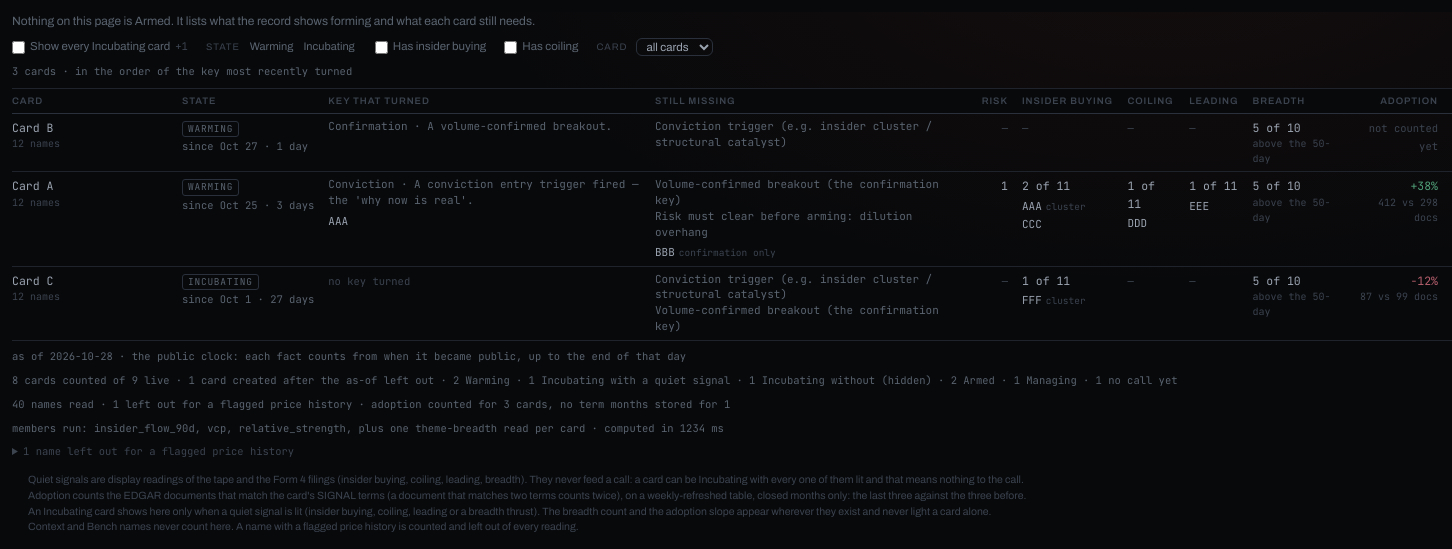
Test: FormingQuietly — the Incubating toggle, the filters and the sorts › filters by state, insider buying, coiling and card, and clears them
Click the button "Incubating".
click(329, 47)  # box [301,38,357,56]
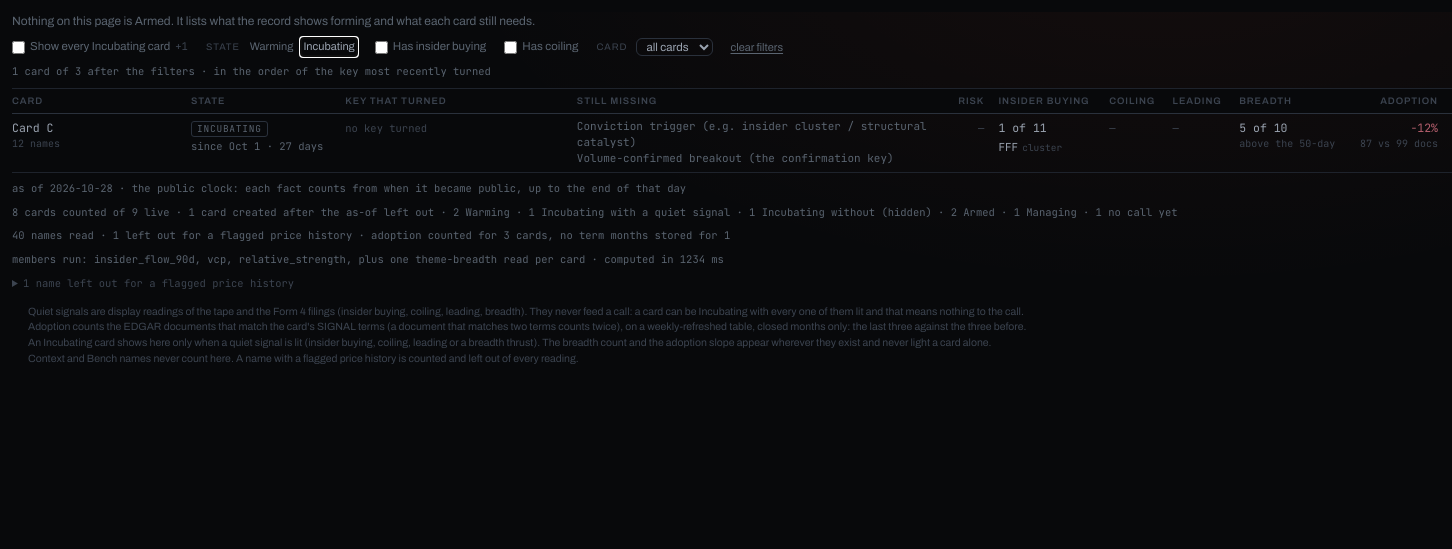
Click the button "clear filters".
click(757, 47)  # box [730,39,783,55]
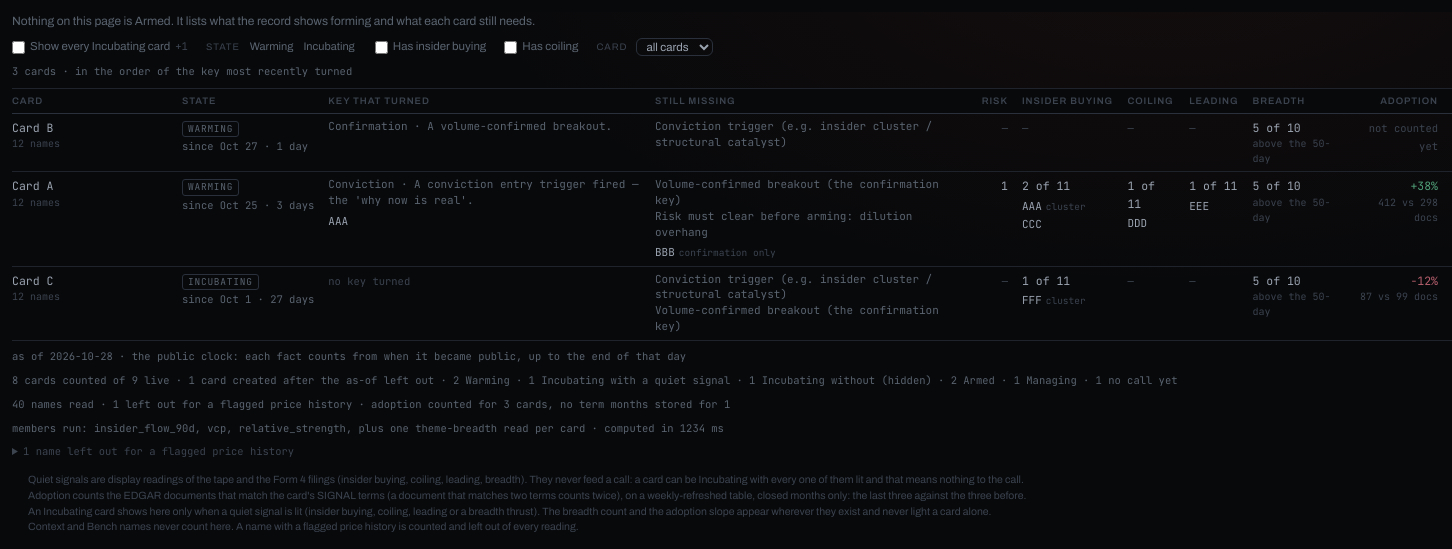
Click the checkbox labelled "Has insider buying".
click(381, 47)  # box [375,40,388,54]
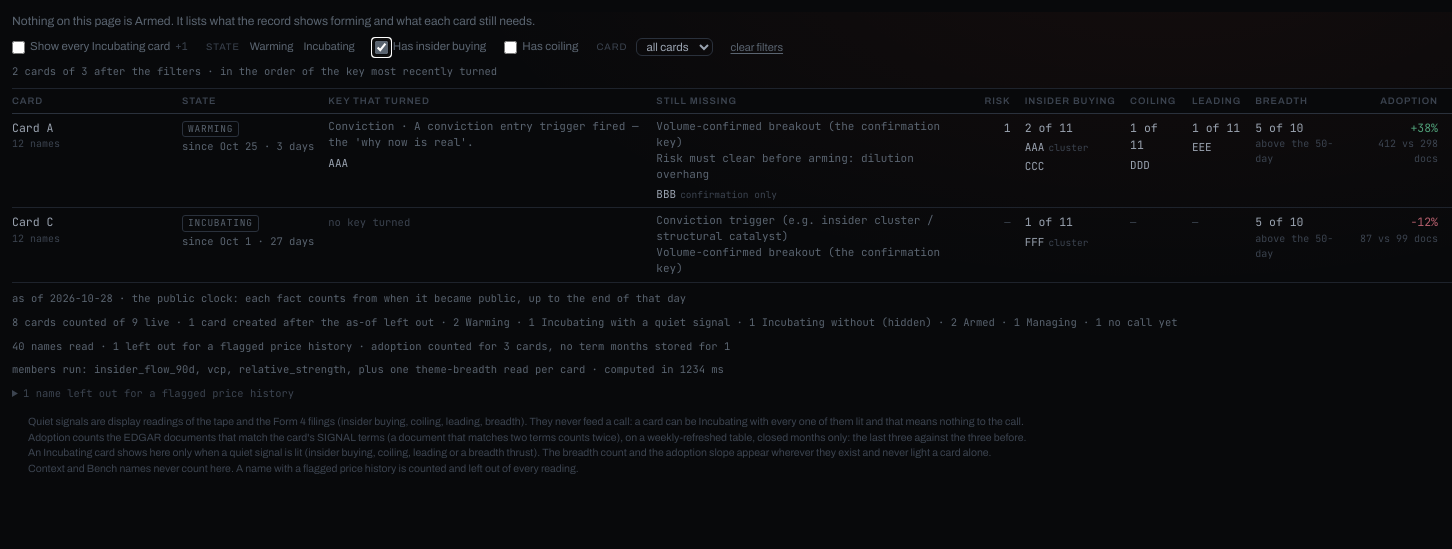
Click the checkbox labelled "Has coiling".
click(511, 47)  # box [504,40,517,54]
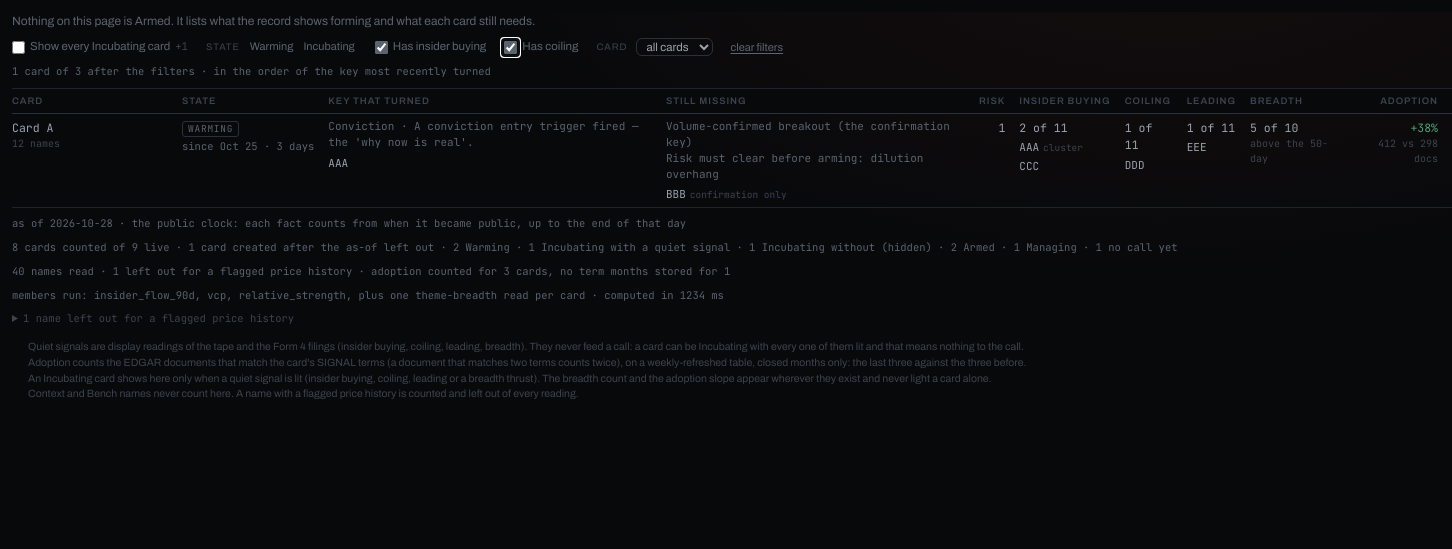
Click the button "clear filters".
click(757, 47)  # box [730,39,783,55]
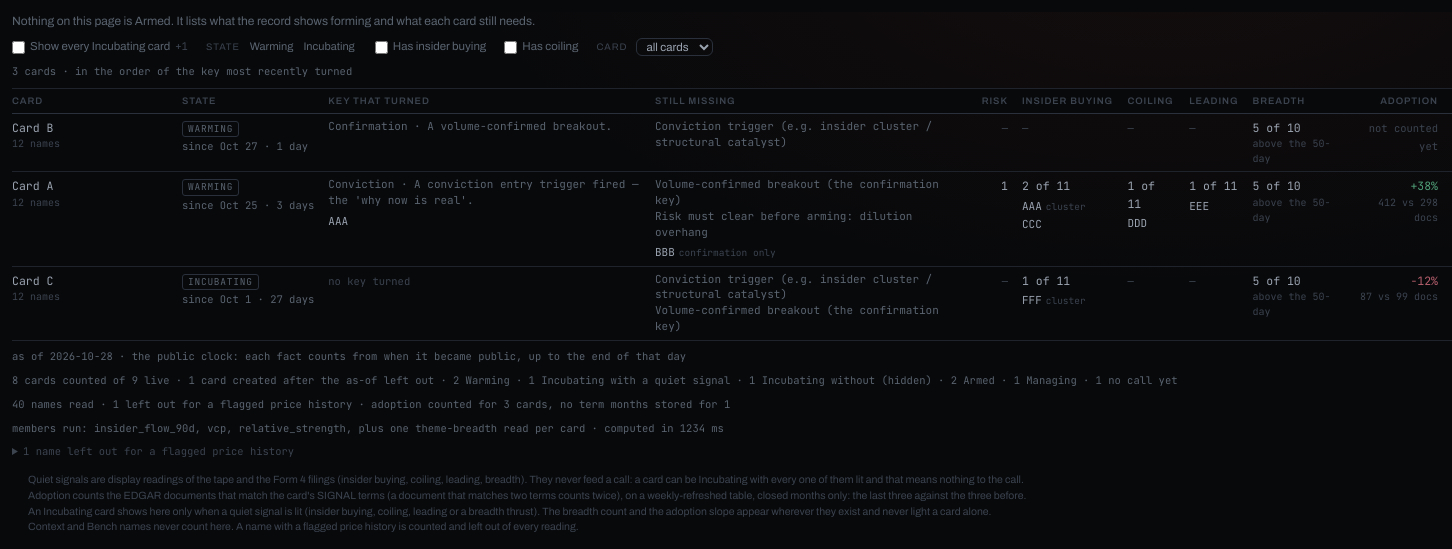
Select "Card C" in the dropdown labelled "Card" at (674,47), box [636,38,712,56]
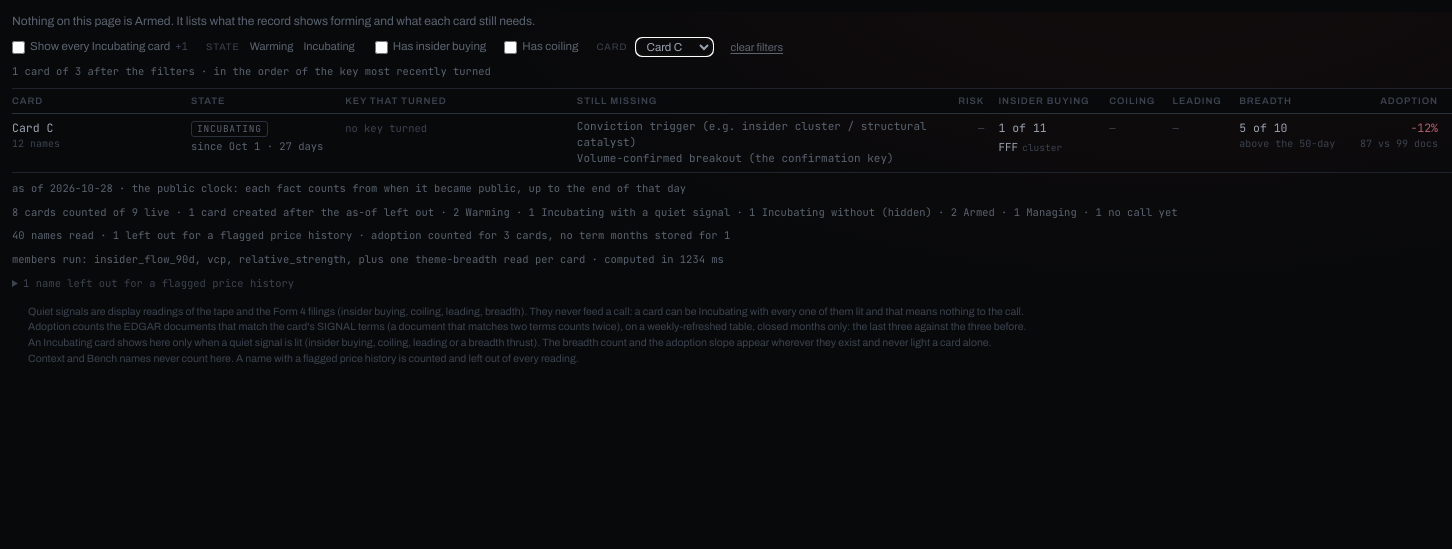
Expected: the text with test id "fq-count" shows "1 card of 3 after the filters", [12,64,491,78]
